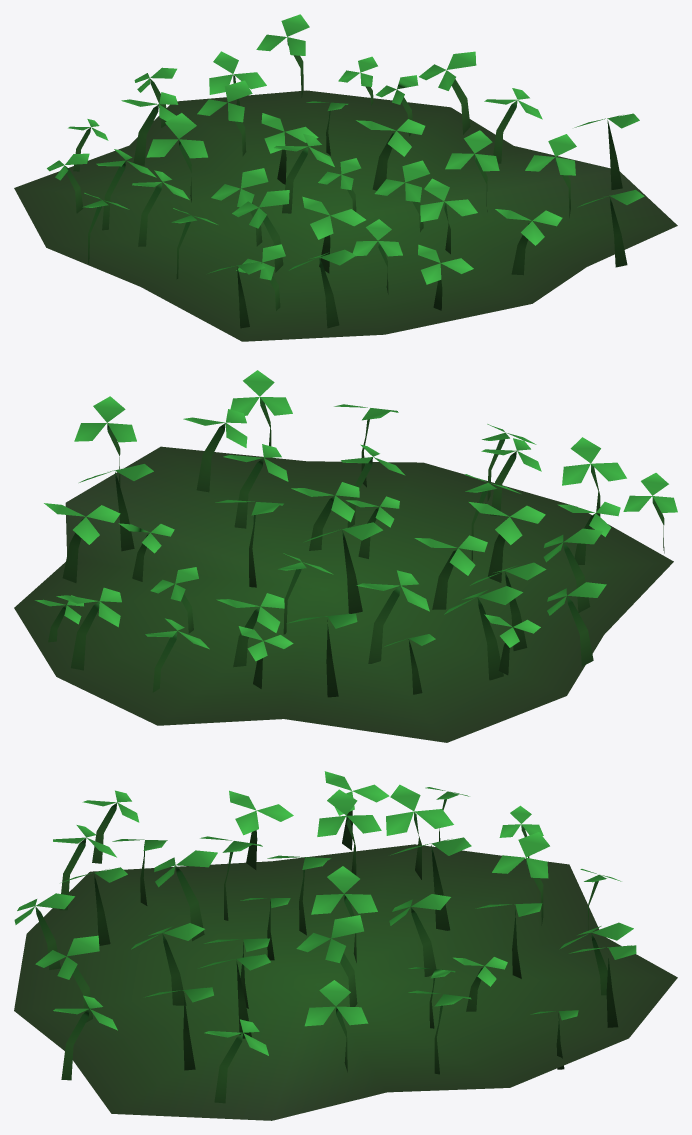
File: cloverfield.fbx
3 renders of one model, top to bottom at view 1: azimuth 30°, elevation 25°; view 2: azimuth 150°, elevation 25°; view 3: azimuth 270°, elevation 25°, orthographic. The views are drawn at different scales.
Visible parts, largest first — view 1: Cube.009; view 2: Cube.009; view 3: Cube.009.
Part boxes in pixels (box(x1,y1,x2,y2)): Cube.009: box(14, 14, 677, 341); Cube.009: box(14, 370, 677, 742); Cube.009: box(14, 771, 677, 1120).
Size of the model in its own units: 453 by 77.84 by 459.
